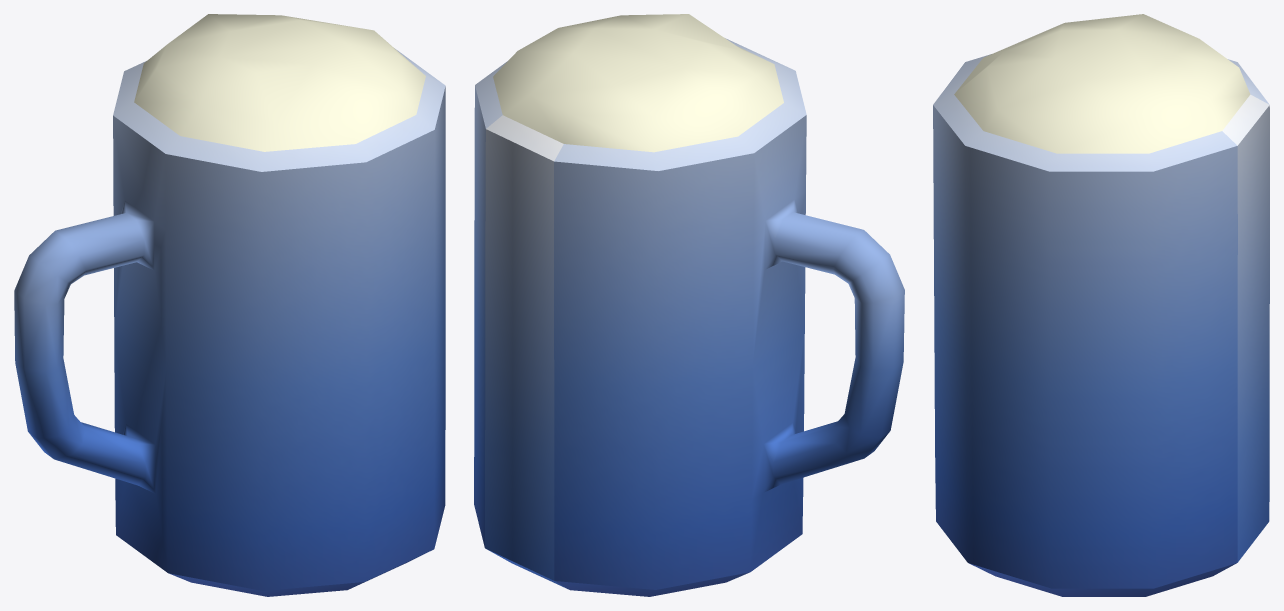
The model's file is m_OktoberfestBeer01.fbx.
3 renders of one model, left to right at view 1: azimuth 30°, elevation 25°; view 2: azimuth 150°, elevation 25°; view 3: azimuth 270°, elevation 25°, orthographic.
Parts seen in each view (by area): view 1: m_OktoberfestBeer01; view 2: m_OktoberfestBeer01; view 3: m_OktoberfestBeer01.
Boxes of the visible parts, x1,y1,x2,y2 form: m_OktoberfestBeer01: [14, 14, 445, 596]; m_OktoberfestBeer01: [474, 14, 904, 596]; m_OktoberfestBeer01: [933, 14, 1269, 596].
Size of the model in its own units: 22.32 by 26.32 by 16.42.
